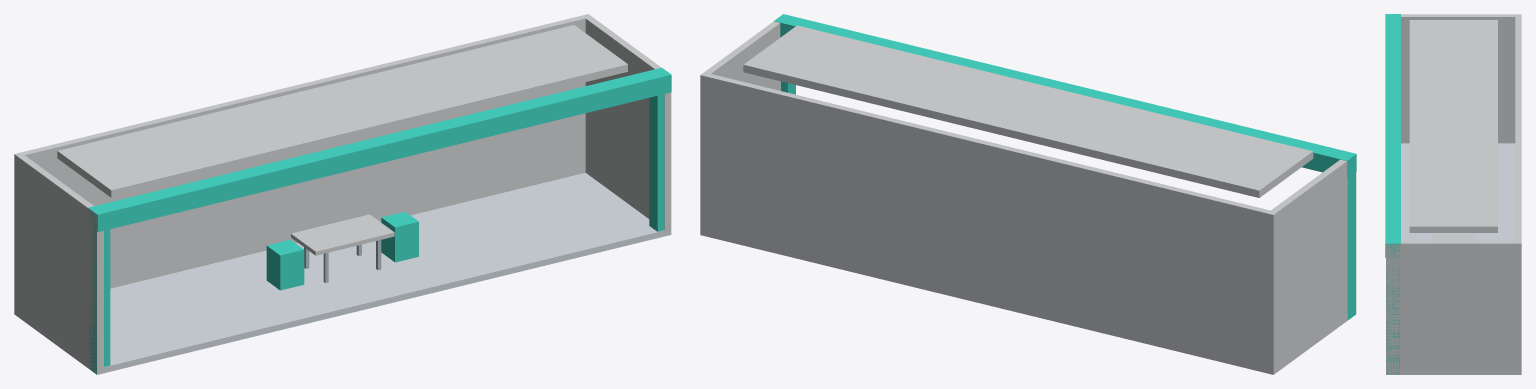
3 renders of one model, left to right at view 1: azimuth 30°, elevation 25°; view 2: azimuth 150°, elevation 25°; view 3: azimuth 270°, elevation 25°, orthographic. The views are drawn at different scales.
Parts seen in each view (by area): view 1: Exhibition Booth Concept; view 2: Exhibition Booth Concept; view 3: Exhibition Booth Concept.
Part boxes in pixels (box(x1,y1,x2,y2)): Exhibition Booth Concept: box(14, 14, 671, 374); Exhibition Booth Concept: box(700, 14, 1356, 374); Exhibition Booth Concept: box(1385, 14, 1521, 374).
Size of the model in its own units: 12 by 3.34 by 3.01.
